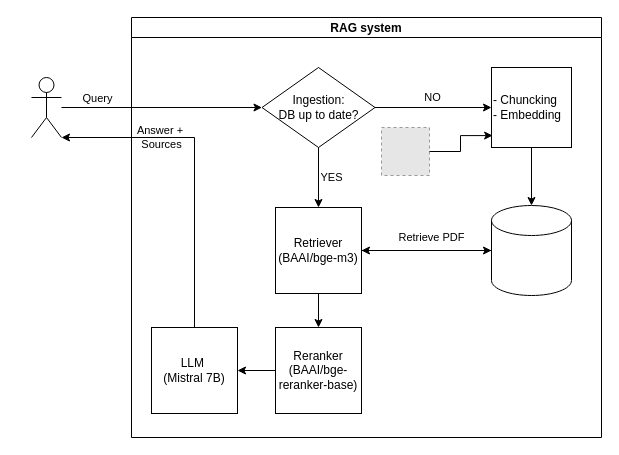
This 619x455 diagram has some shape labels left out. Grey dashed boxes stand in for pictures. Each missing label, with the box of its shape:
ALM Agent: (30, 76, 62, 138)
Local ChromaDB: (490, 204, 572, 296)
